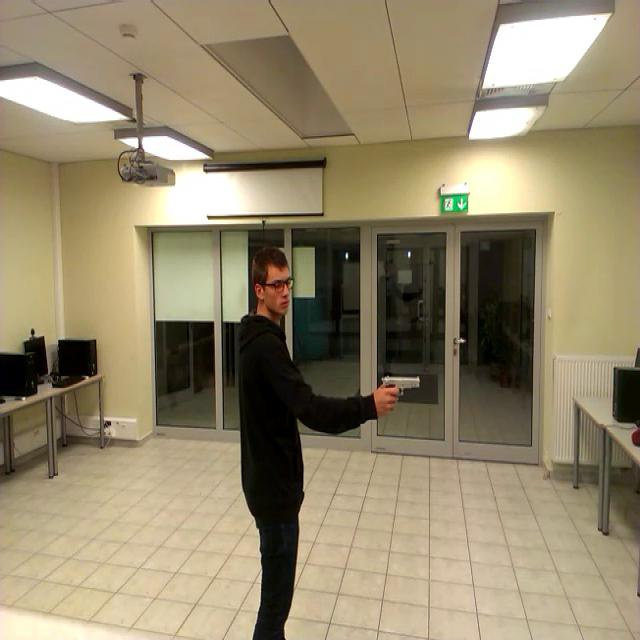handgun: (378, 367, 423, 417)
